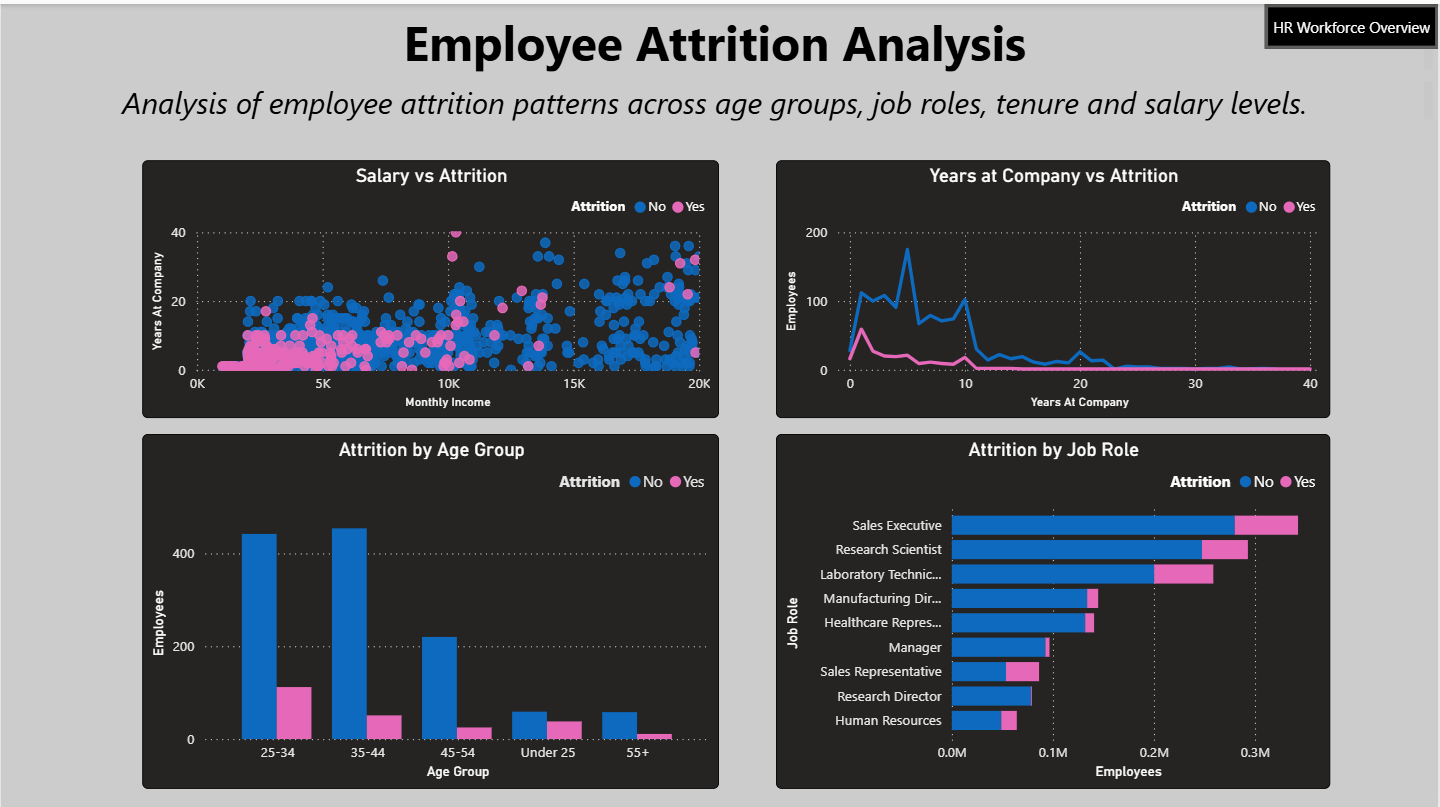

What the dashboard file says about the page in this screenshot:
{"tool":"powerbi","page":{"name":"Page 2","canvas":[1280,720],"ordinal":1},"visuals":[{"type":"textbox","box":[0,0,1280,64.8],"z":0},{"type":"textbox","box":[0,64.8,1280,44.4],"z":1},{"type":"clusteredColumnChart","title":"Attrition by Age Group","fields":{"Category":["HR-Employee-Attrition.Age Group"],"Y":["CountNonNull(HR-Employee-Attrition.EmployeeNumber)"],"Series":["HR-Employee-Attrition.Attrition"]},"box":[126.1,383,513.9,315.8],"z":3},{"type":"barChart","title":"Attrition by Job Role","fields":{"Category":["HR-Employee-Attrition.JobRole"],"Series":["HR-Employee-Attrition.Attrition"],"Y":["Sum(HR-Employee-Attrition.EmployeeNumber)"]},"box":[690.4,383,493.5,315.8],"z":4},{"type":"lineChart","title":"Years at Company vs Attrition","fields":{"Category":["HR-Employee-Attrition.YearsAtCompany"],"Y":["CountNonNull(HR-Employee-Attrition.EmployeeNumber)"],"Series":["HR-Employee-Attrition.Attrition"]},"box":[690.4,139.3,493.5,229.3],"z":5},{"type":"scatterChart","title":"Salary vs Attrition","fields":{"X":["Avg(HR-Employee-Attrition.MonthlyIncome)"],"Series":["HR-Employee-Attrition.Attrition"],"Y":["Avg(HR-Employee-Attrition.YearsAtCompany)"],"Category":["HR-Employee-Attrition.EmployeeNumber"]},"box":[126.1,139.3,513.9,229.3],"z":6},{"type":"actionButton","box":[1125.4,0,154.7,40.1],"z":7}]}

Visuals, with their boxes in screenshot pixels (x1, y1, x2, y2), scaled from the page's 1280x720 canvas onto the 1440x807 screenshot:
textbox: <bbox>0, 0, 1439, 73</bbox>
textbox: <bbox>0, 73, 1439, 122</bbox>
"Attrition by Age Group" clusteredColumnChart: <bbox>142, 429, 720, 783</bbox>
"Attrition by Job Role" barChart: <bbox>777, 429, 1332, 783</bbox>
"Years at Company vs Attrition" lineChart: <bbox>777, 156, 1332, 413</bbox>
"Salary vs Attrition" scatterChart: <bbox>142, 156, 720, 413</bbox>
actionButton: <bbox>1266, 0, 1439, 45</bbox>
